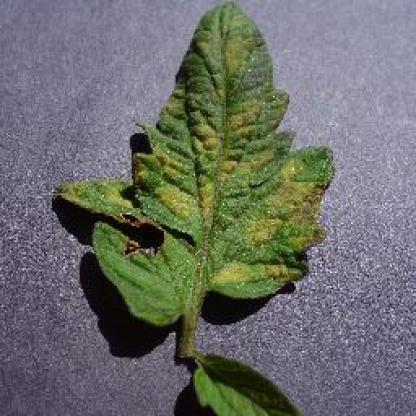bad leaf: (127, 15, 331, 309)
